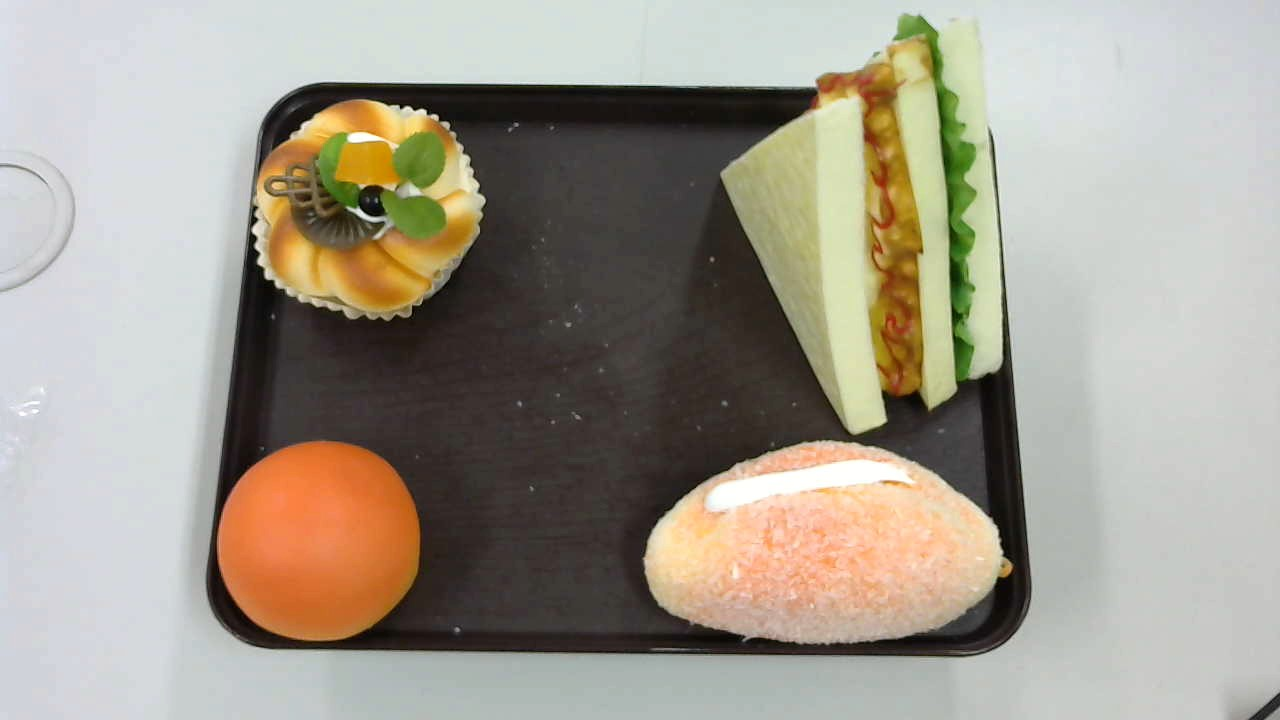bun: (217, 441, 420, 638)
coconut: (642, 441, 1015, 648)
fruit tart: (250, 99, 487, 320)
sandwich: (720, 16, 1005, 436)
